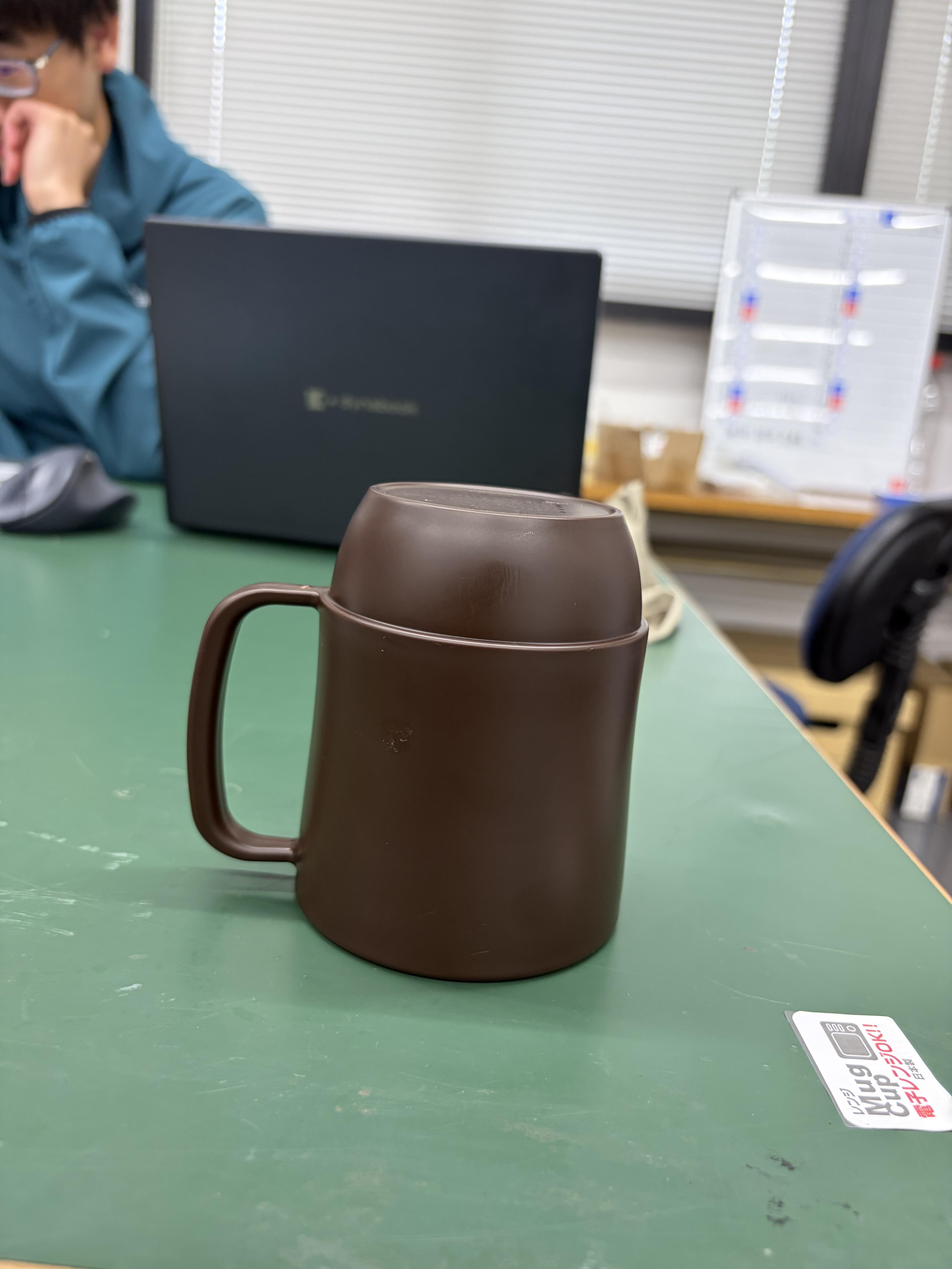mug-real100-3d100: (187, 482, 648, 981)
